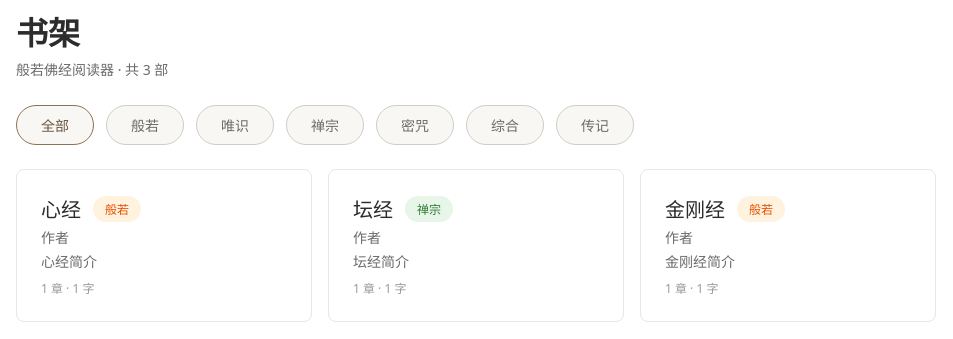
Scenario: BookshelfView（§9 T09 / §8.1） › 分类筛选只显示该分类
The image size is (953, 339).
Click the button with class "bookshelf__filter" showing "禅宗".
click(325, 125)  # box [286,105,364,145]
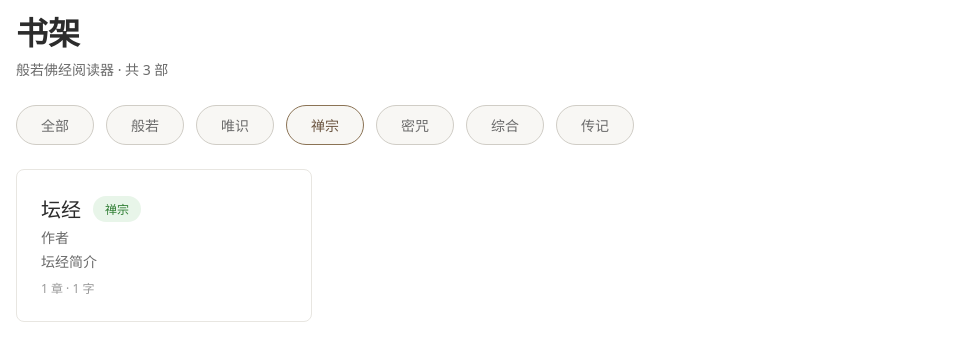
Expected: the button with class "sutra-card" shows "坛经", [16,169,312,322]
Result: the number of buttons with class "sutra-card" is 1 at [16,169,312,322]
